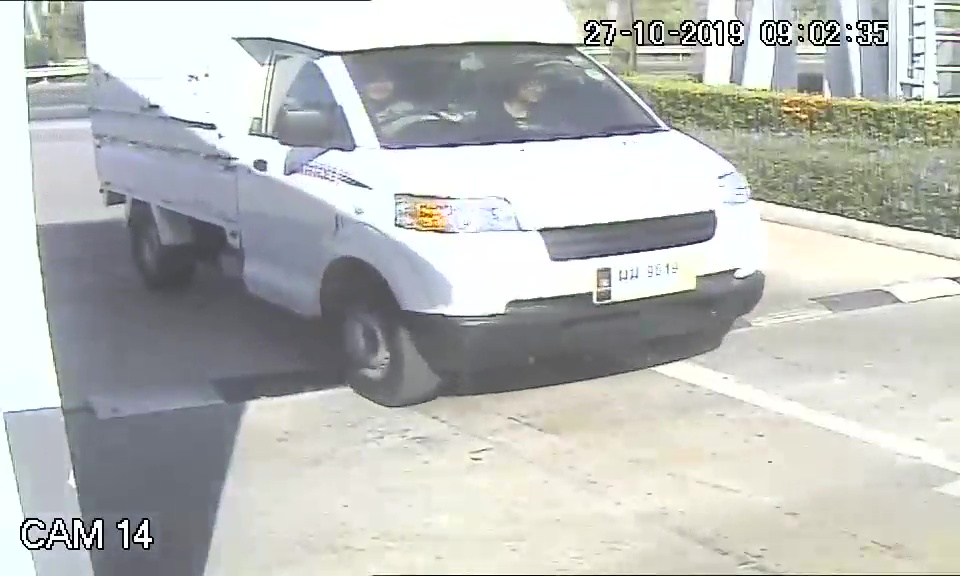pickup: (84, 25, 766, 412)
